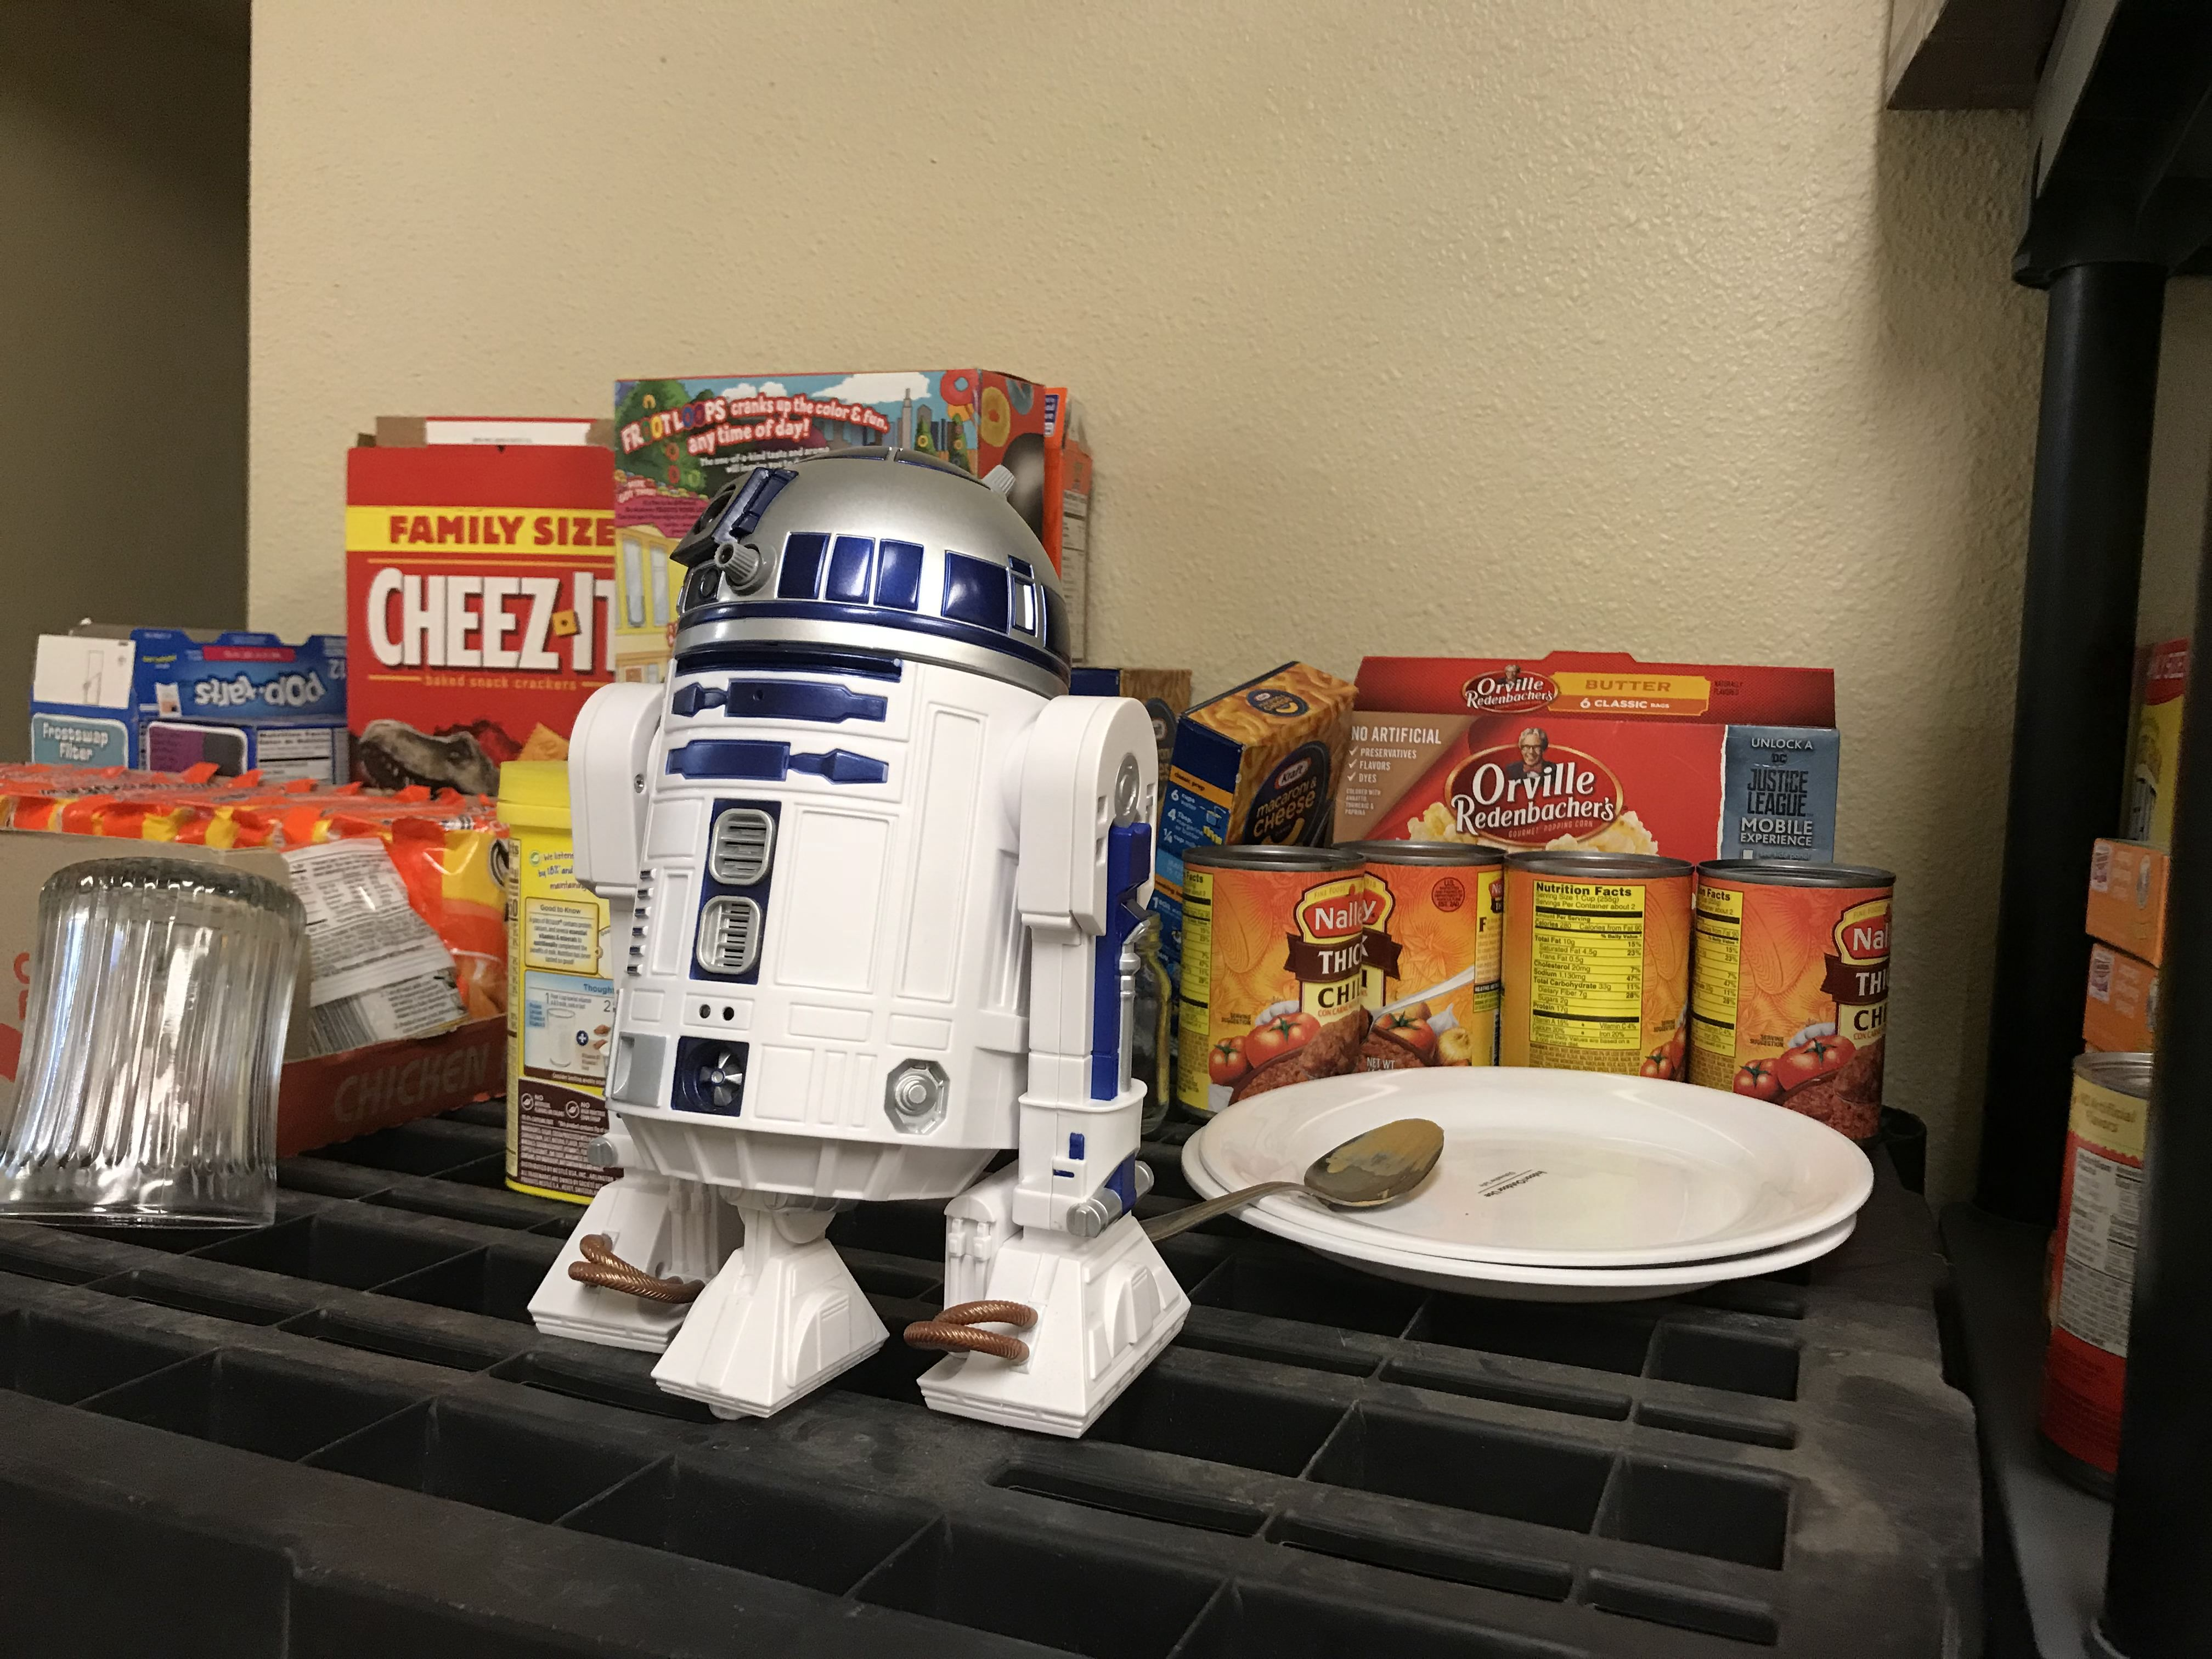r2d2: (531, 446, 1191, 1446)
